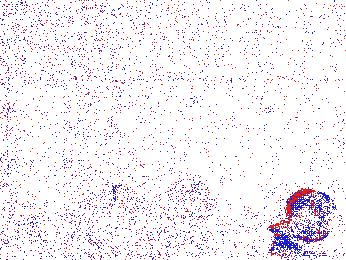flame jellyfish: (266, 188, 336, 244), (61, 192, 123, 241), (109, 183, 143, 231)
